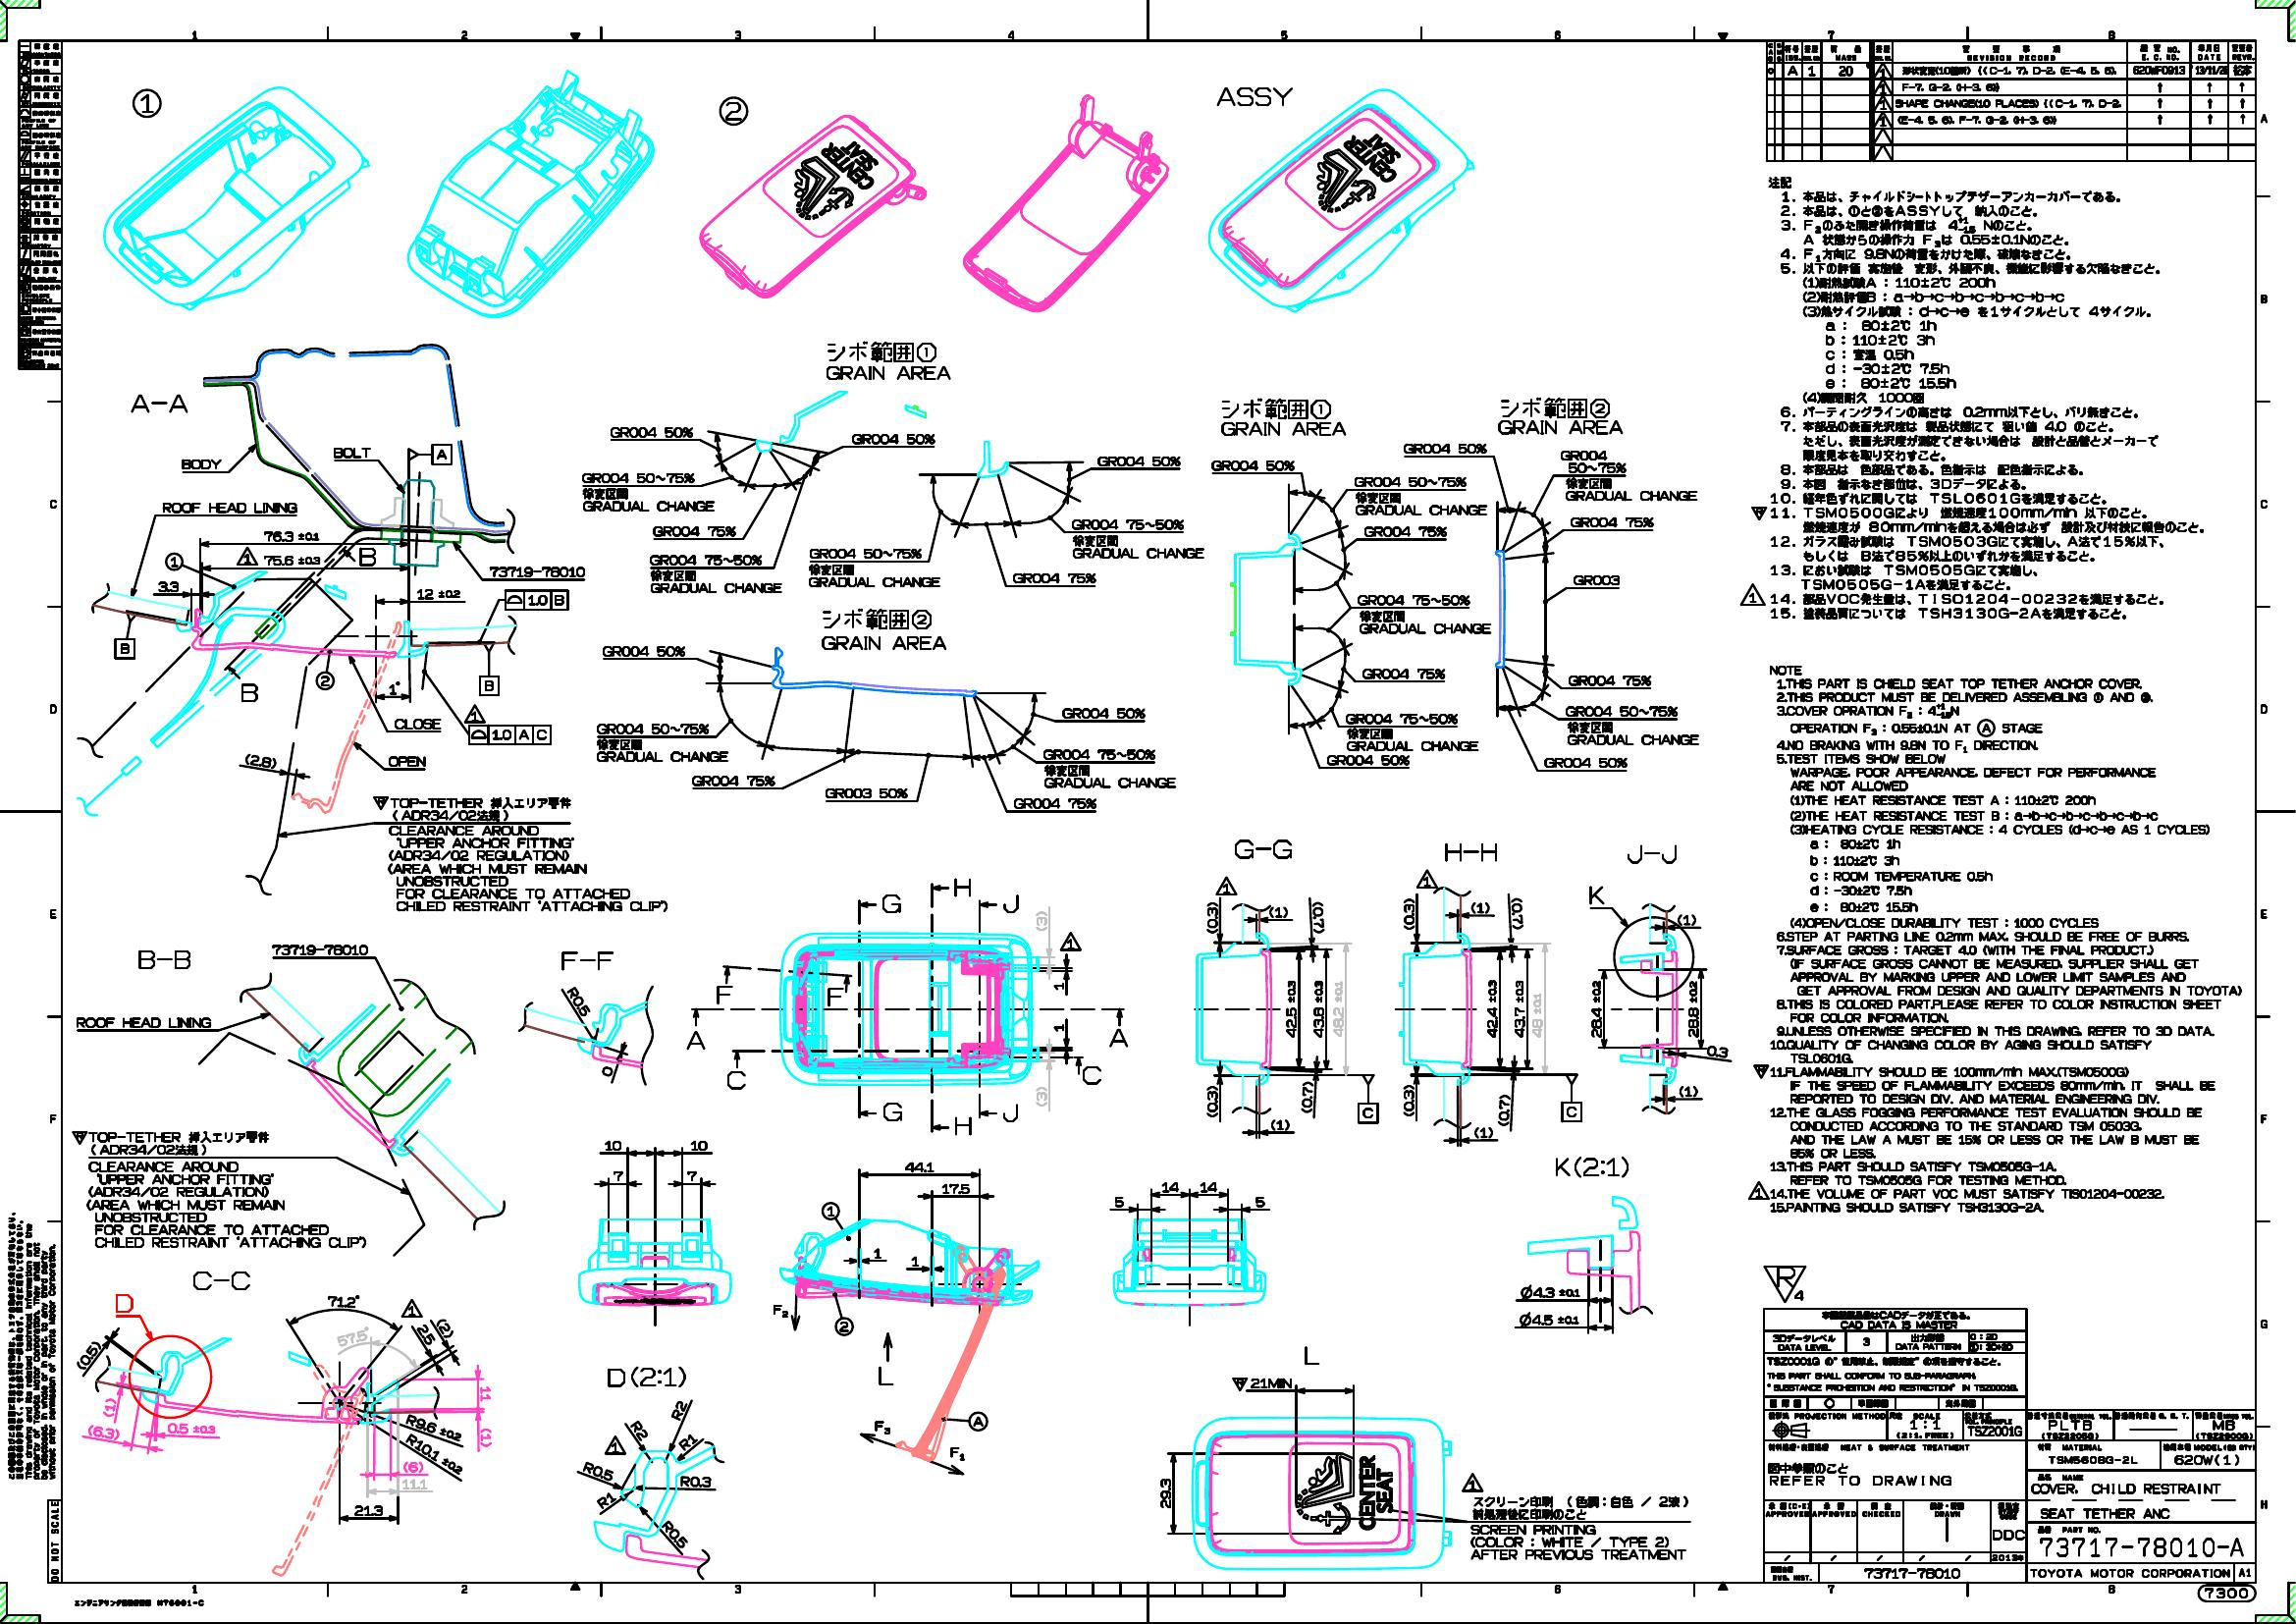anntotation_text: (1737, 174, 2245, 1216), (70, 1128, 369, 1248), (372, 796, 668, 912), (1460, 1471, 1688, 1561), (5, 1211, 56, 1482), (1560, 450, 1699, 501), (1042, 747, 1175, 789), (580, 471, 715, 511), (1565, 705, 1700, 745), (1356, 594, 1491, 634), (1072, 518, 1205, 559), (596, 722, 729, 763), (820, 608, 947, 650), (648, 554, 782, 592), (808, 548, 942, 587), (1354, 476, 1488, 515), (1346, 714, 1479, 752), (826, 339, 950, 380), (1497, 395, 1623, 434), (1221, 397, 1346, 436), (1555, 1155, 1630, 1179), (1762, 1264, 1808, 1302), (606, 1366, 687, 1387), (162, 501, 297, 513), (76, 1016, 211, 1028), (1216, 86, 1293, 107), (469, 724, 550, 743), (271, 942, 369, 956), (1233, 838, 1291, 859), (2198, 1584, 2257, 1603), (130, 394, 188, 413), (504, 591, 567, 608), (560, 951, 613, 972), (193, 1271, 249, 1290), (850, 432, 936, 445), (652, 526, 736, 538), (610, 425, 694, 438), (1210, 459, 1295, 471), (1363, 526, 1448, 538), (1404, 443, 1488, 455), (1361, 668, 1446, 680), (1061, 707, 1145, 719), (603, 645, 687, 657), (1627, 844, 1676, 865), (488, 566, 585, 576), (1444, 842, 1497, 861), (137, 949, 190, 968), (1326, 754, 1409, 766), (717, 95, 748, 127), (1231, 1376, 1291, 1392), (1569, 517, 1655, 527), (132, 88, 162, 118), (1096, 455, 1180, 466), (1012, 573, 1096, 584), (1567, 675, 1651, 685), (1542, 758, 1627, 768), (824, 787, 908, 798), (690, 775, 775, 786), (1014, 798, 1096, 808), (1572, 575, 1620, 587), (393, 717, 441, 729), (604, 1434, 627, 1455), (464, 703, 487, 724), (1416, 868, 1439, 889), (332, 446, 371, 459), (1214, 875, 1238, 895), (114, 638, 135, 659), (968, 1411, 989, 1432), (235, 547, 258, 566), (1059, 932, 1082, 951), (401, 1299, 423, 1318), (181, 459, 221, 469), (314, 671, 336, 691), (388, 756, 427, 766), (1358, 1102, 1377, 1123), (882, 1102, 903, 1121), (826, 986, 845, 1007), (833, 1316, 854, 1336), (432, 445, 451, 464), (163, 552, 183, 571), (480, 675, 499, 694), (1562, 1102, 1581, 1121), (882, 893, 901, 912), (1108, 1028, 1128, 1048), (1082, 1065, 1101, 1084), (687, 1030, 706, 1049), (727, 1070, 747, 1090), (114, 1294, 134, 1313), (820, 1200, 840, 1220), (358, 547, 376, 566), (241, 682, 258, 701), (954, 877, 971, 896), (954, 1116, 971, 1135), (715, 984, 733, 1004), (1588, 884, 1604, 905), (1003, 893, 1019, 914), (1303, 1345, 1319, 1366), (1003, 1102, 1017, 1123), (878, 1366, 892, 1385), (873, 1420, 891, 1434), (773, 1304, 789, 1318), (949, 1446, 964, 1461)
dimension_text: (1520, 1283, 1581, 1299), (1518, 1311, 1579, 1325), (402, 1448, 467, 1461), (404, 1422, 464, 1434), (1486, 979, 1498, 1037), (1332, 981, 1344, 1037), (1312, 981, 1325, 1037), (1284, 981, 1296, 1037), (1590, 981, 1602, 1037), (1514, 979, 1525, 1037), (1688, 981, 1699, 1037), (264, 555, 320, 566), (264, 531, 320, 541), (167, 1422, 214, 1434), (244, 752, 278, 768), (336, 1329, 371, 1343), (327, 1294, 360, 1308), (1532, 993, 1542, 1037), (659, 1527, 690, 1541), (1497, 1093, 1509, 1127), (1511, 896, 1523, 930), (1312, 900, 1325, 933), (562, 995, 596, 1007), (86, 1425, 119, 1438), (581, 1464, 615, 1476), (1402, 898, 1414, 930), (1205, 1084, 1217, 1116), (1300, 1081, 1312, 1113), (680, 1475, 711, 1487), (1159, 1478, 1172, 1510), (353, 1504, 383, 1517), (72, 1350, 105, 1360), (1404, 1084, 1414, 1116), (1207, 902, 1217, 933), (903, 1162, 935, 1172), (415, 1327, 437, 1341), (1706, 1044, 1729, 1058), (1035, 910, 1049, 932), (942, 1183, 970, 1193), (156, 580, 179, 592), (669, 1403, 689, 1417), (1035, 1086, 1047, 1107), (434, 1322, 455, 1334), (402, 1478, 427, 1489), (402, 1461, 423, 1473), (1676, 914, 1697, 926), (1470, 902, 1490, 914), (1270, 1118, 1289, 1130), (480, 1427, 492, 1446), (1679, 1084, 1699, 1097), (629, 1425, 650, 1436), (1200, 1181, 1217, 1193), (1474, 1127, 1493, 1137), (1268, 907, 1288, 917), (104, 1397, 114, 1417), (678, 1436, 697, 1446), (596, 1494, 615, 1504), (388, 680, 401, 696), (690, 1141, 708, 1151), (604, 1141, 622, 1151), (1161, 1181, 1179, 1192), (480, 1385, 490, 1401), (601, 1065, 613, 1076), (1114, 1195, 1124, 1207), (1254, 1195, 1265, 1207), (613, 1171, 624, 1181), (687, 1171, 697, 1181), (873, 1246, 882, 1258), (1054, 1023, 1065, 1032), (1052, 982, 1065, 990), (910, 1257, 919, 1265)
object: (83, 344, 508, 816), (95, 1336, 437, 1578), (778, 1218, 1040, 1462), (406, 69, 655, 318), (244, 981, 501, 1220), (1207, 86, 1476, 313), (102, 86, 371, 311), (961, 93, 1170, 313), (697, 114, 928, 299), (778, 932, 1040, 1086), (1191, 1415, 1453, 1570), (755, 390, 1008, 476), (1397, 886, 1472, 1128), (1193, 903, 1272, 1114), (592, 1445, 715, 1568), (1525, 1193, 1641, 1316), (578, 1216, 731, 1308), (1112, 1216, 1267, 1306), (1618, 902, 1678, 1114), (1230, 533, 1303, 685), (771, 647, 978, 698), (522, 1000, 648, 1069), (1493, 550, 1505, 668)
title_block: (1764, 1308, 2256, 1584), (1765, 40, 2256, 162), (19, 39, 61, 369)
